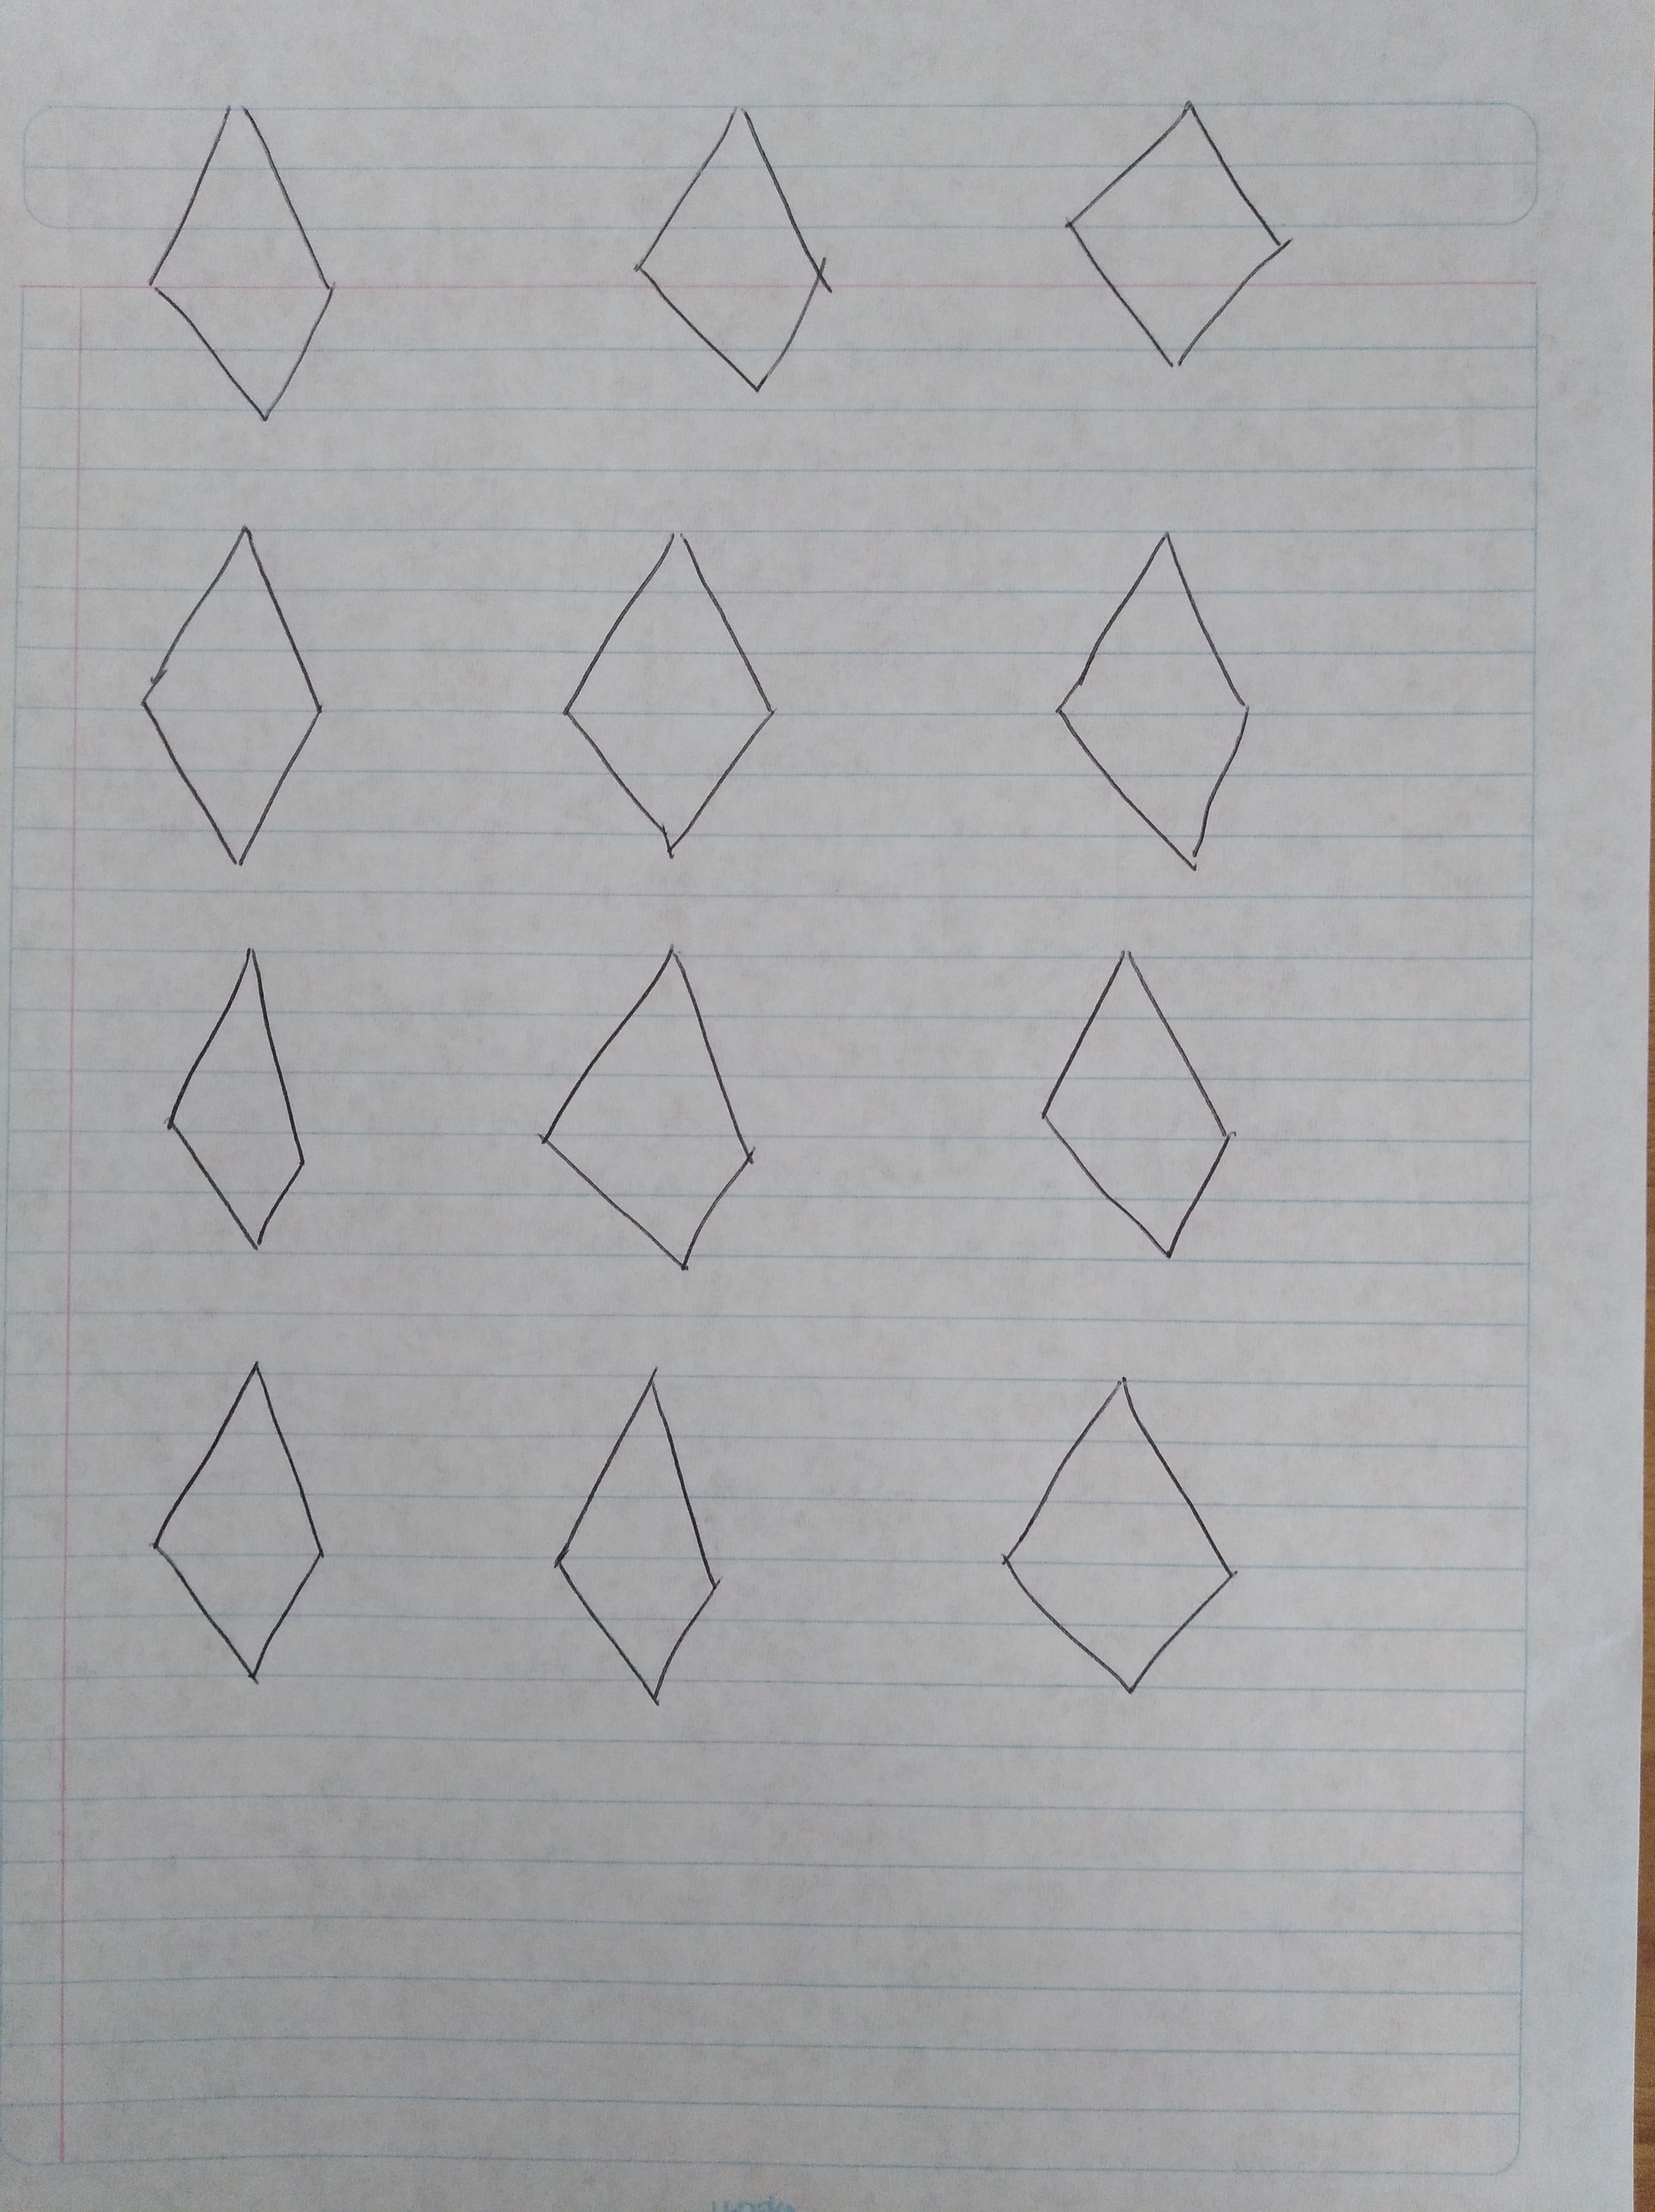decision: (970, 1345, 1273, 1729), (1014, 504, 1309, 895), (103, 90, 412, 443), (539, 506, 817, 886), (101, 1334, 379, 1708), (1029, 50, 1311, 415), (586, 80, 878, 431), (515, 928, 793, 1291), (99, 500, 363, 881), (523, 1345, 760, 1736), (1010, 926, 1267, 1284), (116, 926, 353, 1274)
